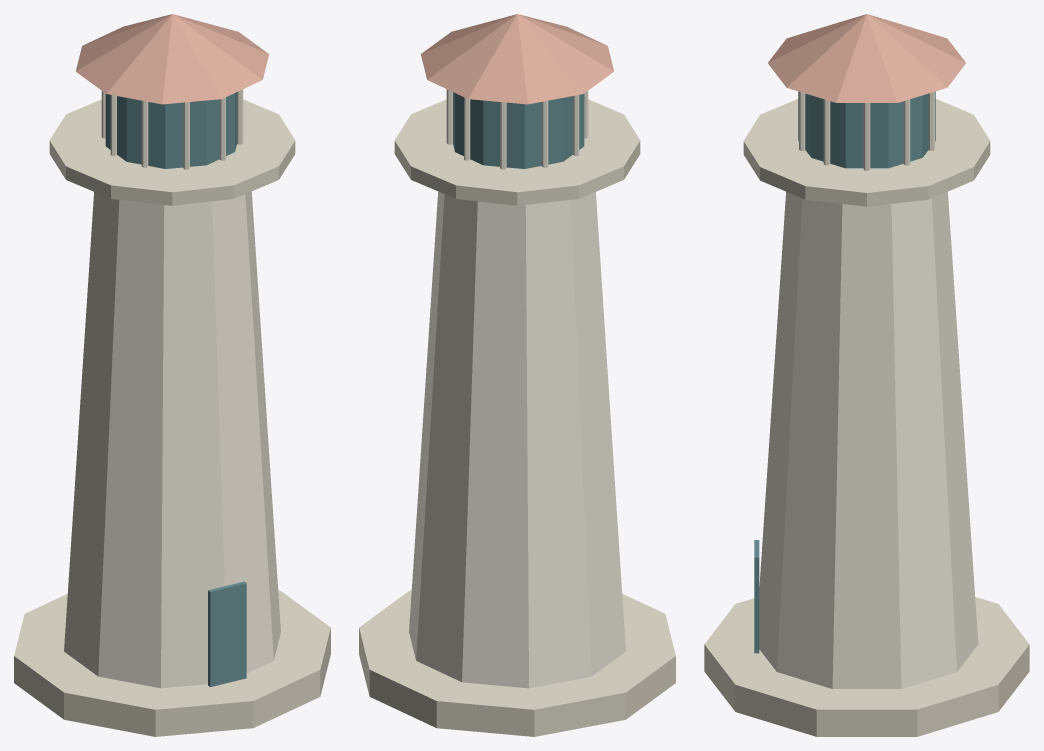
Rendered from Lighthouse.fbx.
3 renders of one model, left to right at view 1: azimuth 30°, elevation 25°; view 2: azimuth 150°, elevation 25°; view 3: azimuth 270°, elevation 25°, orthographic.
Visible parts, largest first — view 1: White tower, Base, Balcony, Lantern roof, Lantern, Door, Lantern frame.006; view 2: White tower, Base, Balcony, Lantern roof, Lantern, Lantern frame.004; view 3: White tower, Base, Balcony, Lantern roof, Lantern, Door, Lantern frame.
Part boxes in pixels (<box>): White tower: <box>64,191,280,688</box>; Base: <box>14,590,330,736</box>; Balcony: <box>49,99,295,205</box>; Lantern roof: <box>75,14,269,104</box>; Lantern: <box>105,92,236,168</box>; Door: <box>208,581,246,686</box>; Lantern frame.006: <box>141,100,148,167</box>; White tower: <box>409,191,625,688</box>; Base: <box>359,590,675,736</box>; Balcony: <box>394,99,640,205</box>; Lantern roof: <box>420,14,614,104</box>; Lantern: <box>453,92,584,168</box>; Lantern frame.004: <box>541,100,548,167</box>; White tower: <box>759,191,978,688</box>; Base: <box>704,597,1029,736</box>; Balcony: <box>743,99,990,206</box>; Lantern roof: <box>768,14,965,102</box>; Lantern: <box>798,91,935,168</box>; Door: <box>754,540,759,653</box>; Lantern frame: <box>863,103,870,170</box>.
Bounding box in the file's own units: 5.14 × 12.05 × 5.4.
